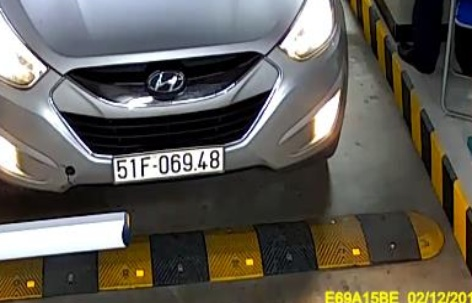plate: (114, 148, 224, 178)
